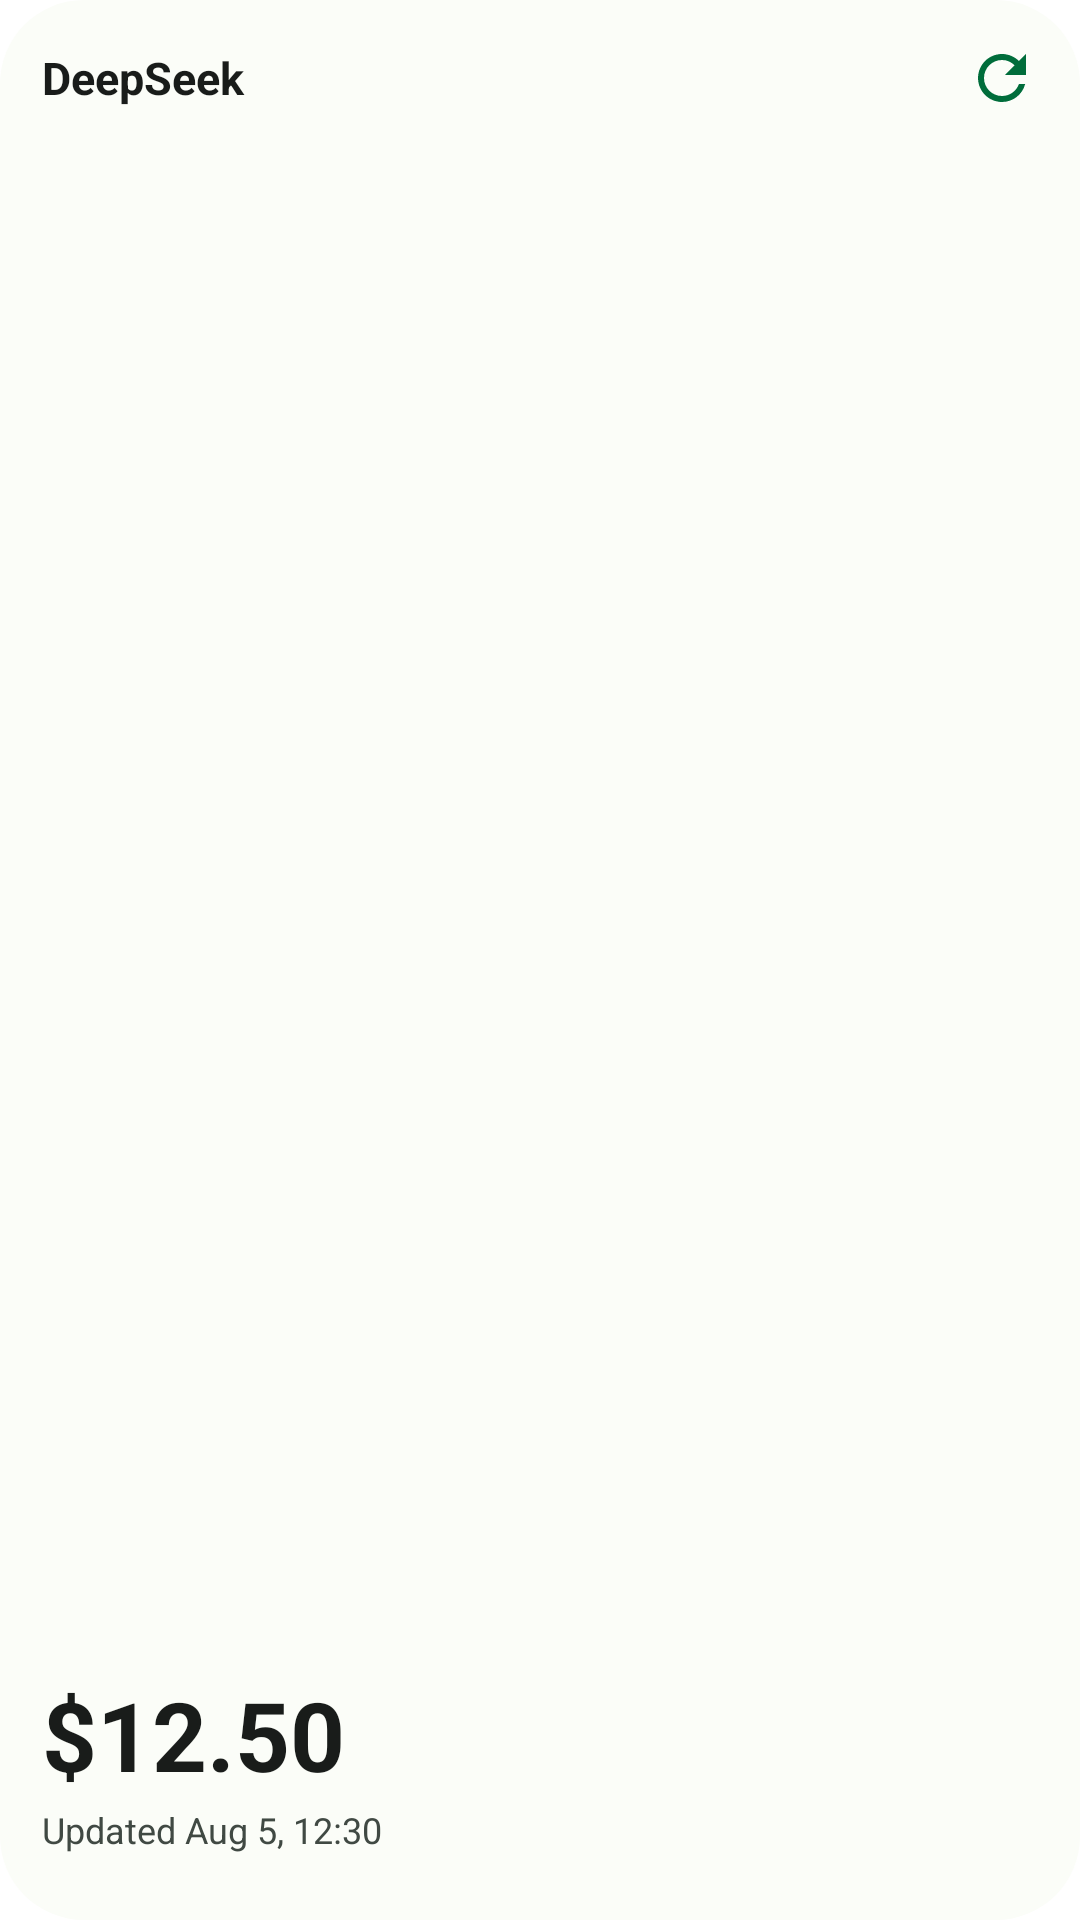

Named icons in this screenshot (1080x1920) and their bounding boxes, (x1, y1, x2, y2):
refresh: (978, 54, 1026, 102)
